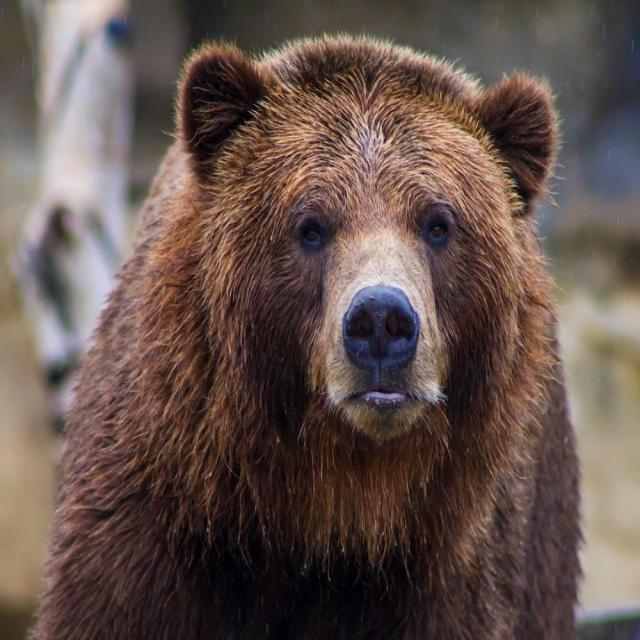Bear: (24, 35, 586, 640)
